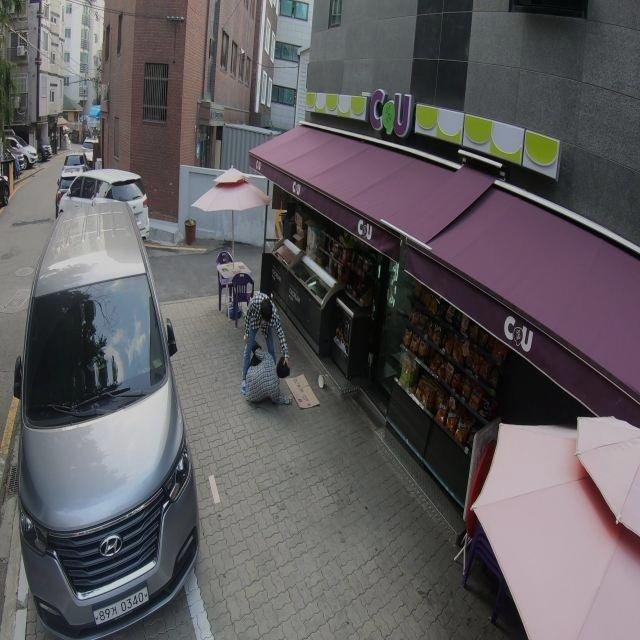fight: (238, 286, 292, 408)
